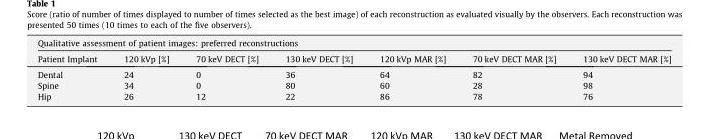table: (36, 37, 670, 100)
table column: (458, 37, 568, 100), (568, 37, 670, 100), (271, 37, 365, 100), (365, 37, 458, 100), (181, 37, 271, 100), (36, 37, 109, 100), (109, 37, 181, 100)
table column header: (36, 37, 670, 66)
table row: (36, 50, 670, 66), (36, 37, 670, 50), (36, 66, 670, 79), (36, 79, 670, 90), (36, 90, 670, 100)
table spanning cell: (36, 37, 670, 50)
